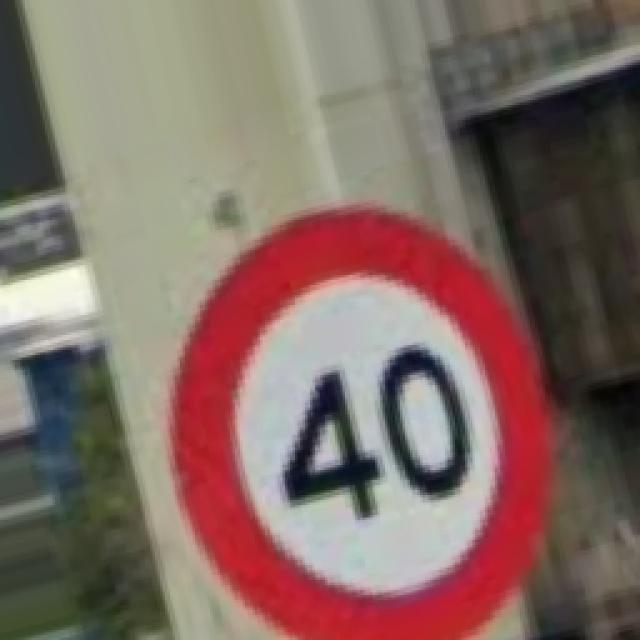Speed Limit -40-: (172, 208, 548, 638)
